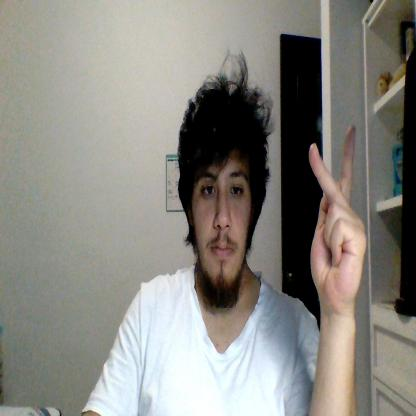P: (309, 126, 367, 306)
